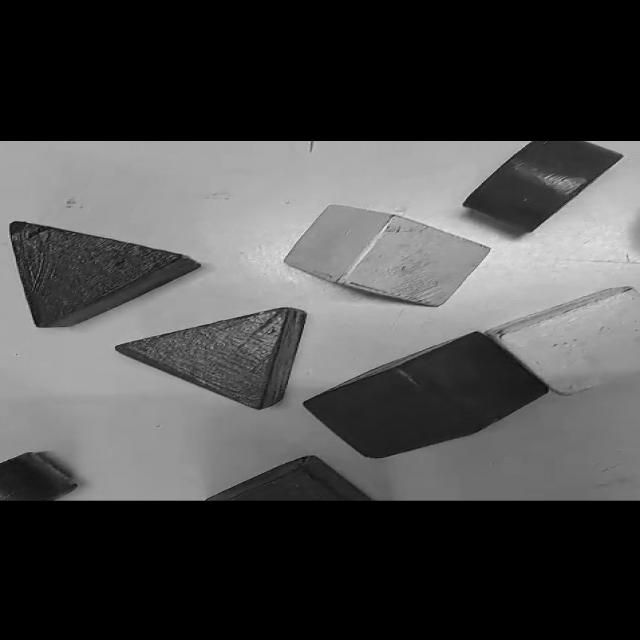bcircle: (1, 452, 80, 502)
bcube: (193, 455, 378, 500)
btriangle: (9, 222, 200, 327)
rcircle: (462, 141, 626, 234)
rcube: (300, 333, 544, 458)
rtriangle: (115, 307, 308, 408)
ycube: (490, 288, 640, 394)
ytriangle: (285, 205, 490, 305)
